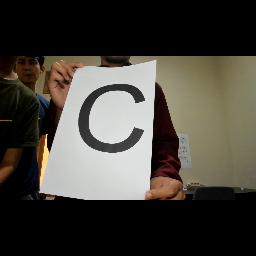c: (72, 78, 148, 162)
